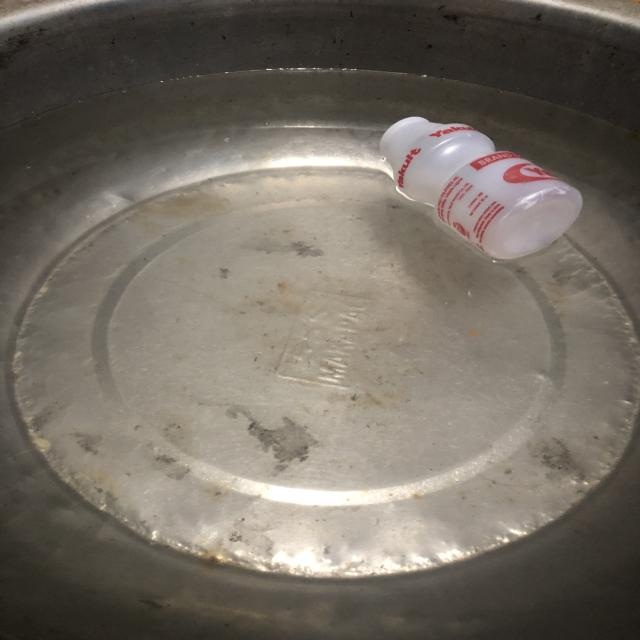Plastic Bottle: (381, 117, 582, 259)
